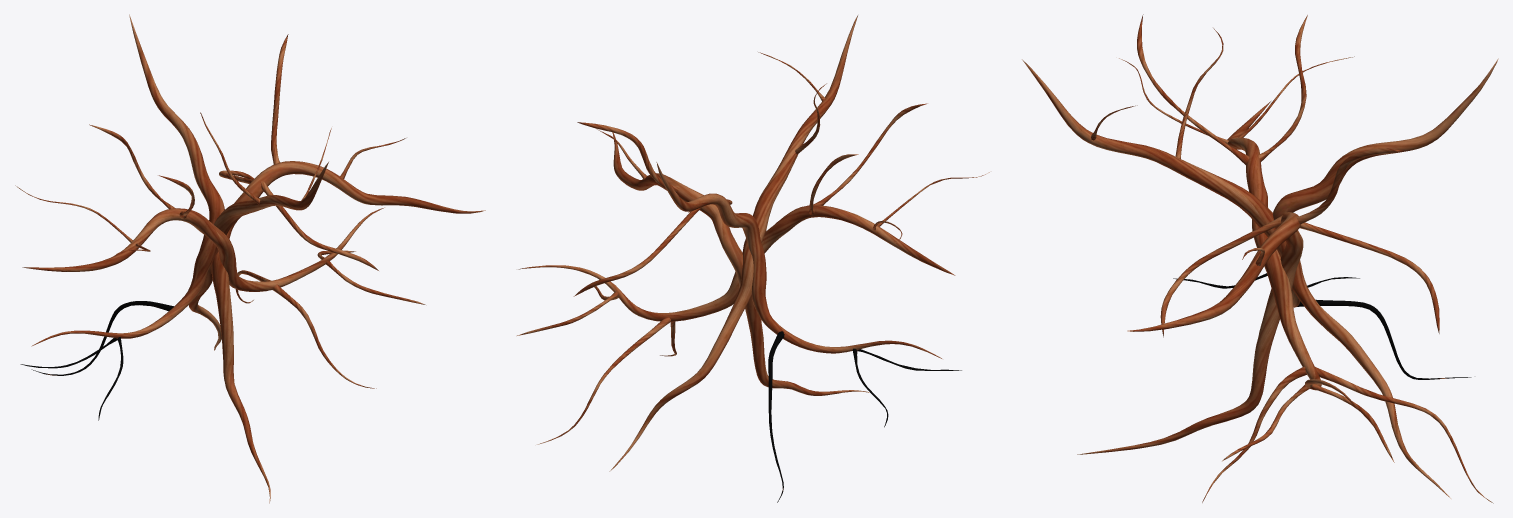
The model's file is trees_rp_018.glb.
3 views of the same model, side by side, from view 1: azimuth 30°, elevation 25°; view 2: azimuth 150°, elevation 25°; view 3: azimuth 270°, elevation 25° (orthographic). The views are drawn at different scales.
Parts seen in each view (by area): view 1: Default; view 2: Default; view 3: Default.
Part boxes in pixels (x1=…): Default: x1=15, y1=14, x2=485, y2=503; Default: x1=517, y1=15, x2=989, y2=502; Default: x1=1022, y1=14, x2=1498, y2=503.
Size of the model in its own units: 8.54 by 7.14 by 7.34.
1 material, 1 textured.
